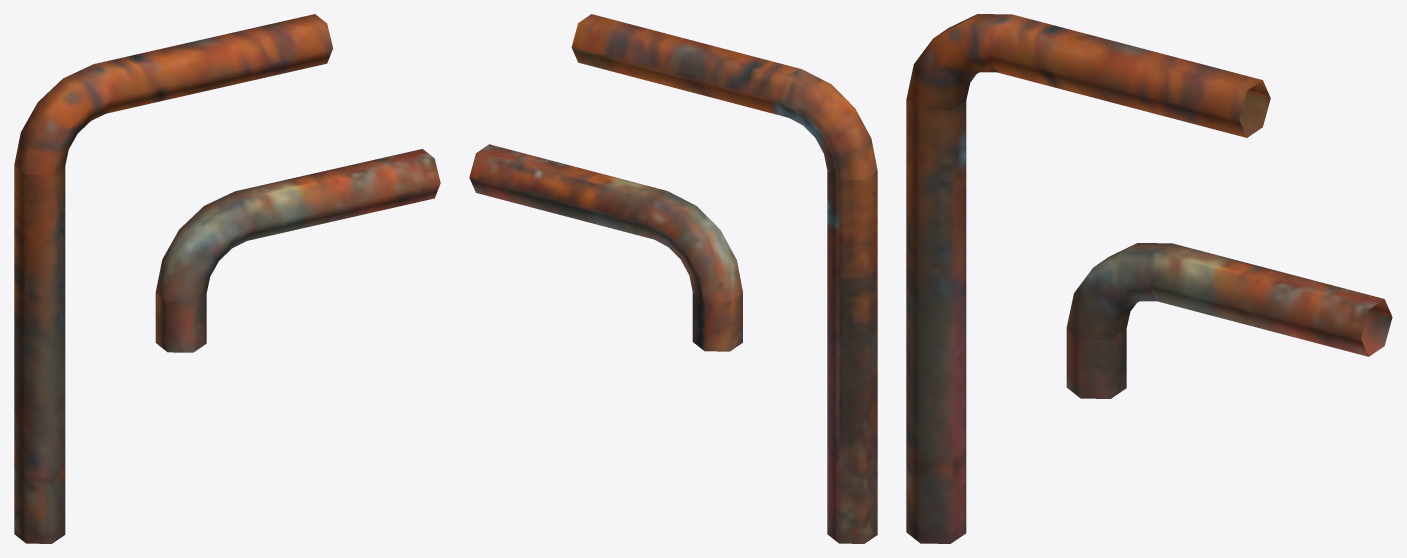
Rendered from DoublePipes.FBX.
The picture shows the model from 3 angles, left to right: view 1: azimuth 30°, elevation 25°; view 2: azimuth 150°, elevation 25°; view 3: azimuth 330°, elevation 25°; orthographic projection. The views are drawn at different scales.
Parts seen in each view (by area): view 1: Pipe_01, Pipe_02; view 2: Pipe_01, Pipe_02; view 3: Pipe_01, Pipe_02.
Part boxes in pixels (x1,y1,x2,y2): Pipe_01: [14, 14, 333, 543]; Pipe_02: [155, 149, 440, 352]; Pipe_01: [571, 14, 877, 543]; Pipe_02: [469, 144, 742, 351]; Pipe_01: [906, 14, 1270, 543]; Pipe_02: [1066, 243, 1392, 398].
Size of the model in its own units: 30.87 by 33.15 by 4.33.
